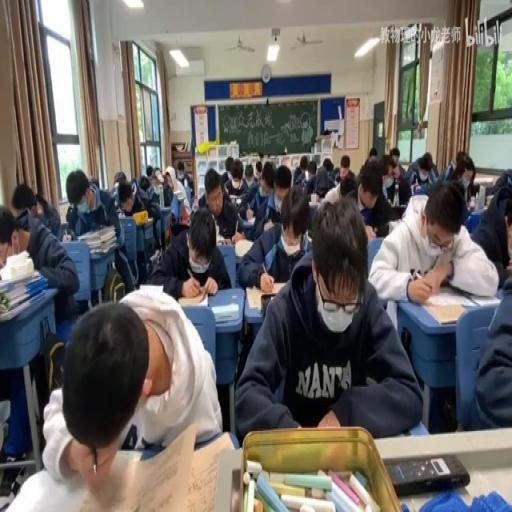calculator: (418, 286, 492, 321), (0, 289, 45, 321), (0, 267, 42, 294), (210, 300, 238, 322), (176, 288, 208, 306), (233, 236, 254, 258), (215, 232, 238, 247), (58, 200, 70, 224), (134, 214, 154, 228), (138, 283, 163, 292), (148, 249, 160, 266), (308, 195, 318, 206), (244, 216, 254, 225)
paper: (32, 286, 218, 488), (367, 180, 498, 304), (238, 178, 312, 287), (149, 205, 229, 300), (468, 273, 512, 430), (67, 168, 123, 247), (348, 155, 398, 236), (114, 175, 162, 252), (11, 181, 61, 240), (444, 151, 476, 205), (402, 151, 438, 196), (221, 158, 248, 202), (485, 167, 512, 210), (310, 155, 338, 196), (173, 160, 192, 194), (501, 206, 511, 260), (160, 172, 174, 205), (293, 154, 308, 184), (338, 155, 354, 183), (382, 204, 404, 224), (261, 160, 275, 190), (176, 195, 190, 225), (274, 180, 290, 204), (117, 190, 133, 212), (338, 179, 354, 198), (244, 162, 254, 188), (468, 181, 478, 202), (389, 146, 399, 166), (114, 170, 126, 186), (331, 166, 341, 184), (254, 158, 262, 180), (138, 174, 149, 190), (280, 155, 290, 169), (153, 168, 162, 183), (368, 145, 378, 158), (306, 168, 316, 179), (88, 176, 98, 186), (146, 164, 152, 176), (325, 164, 332, 174), (256, 150, 262, 160)
person: (384, 452, 468, 494), (374, 218, 394, 236), (261, 293, 275, 314), (229, 195, 239, 205)
